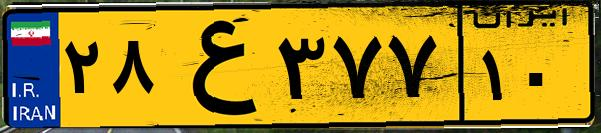0: (525, 38, 570, 115)
1: (475, 38, 525, 113)
2: (57, 26, 110, 100)
3: (270, 28, 330, 110)
7: (385, 28, 445, 110), (330, 28, 385, 110)
8: (110, 28, 158, 98)
ع: (158, 12, 270, 120)
